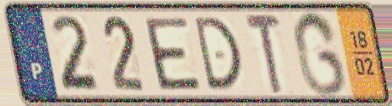2: (53, 13, 103, 95), (103, 14, 147, 94)
D: (191, 14, 245, 93)
E: (141, 14, 204, 92)
G: (290, 8, 350, 99)
T: (242, 11, 285, 96)
